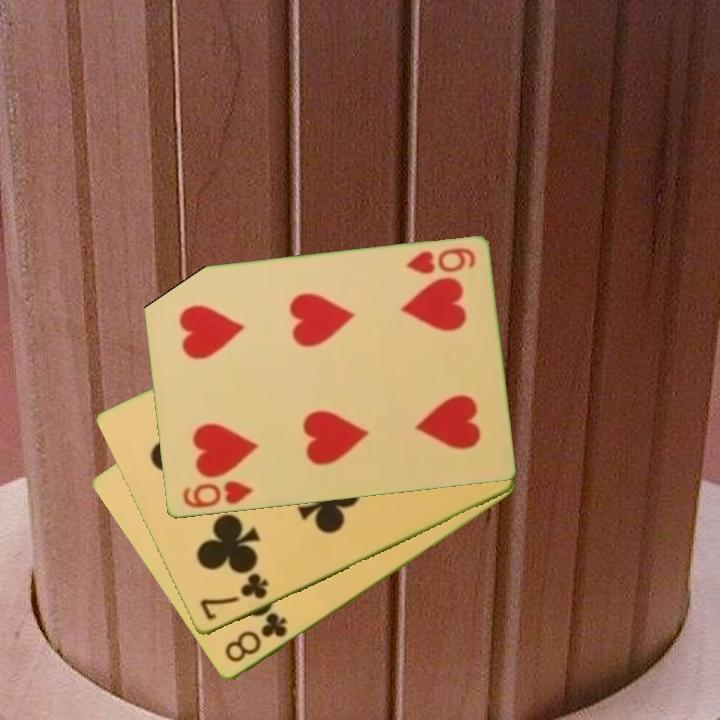6h: (178, 478, 256, 512), (402, 244, 478, 278)
7c: (196, 570, 271, 624)
8c: (220, 610, 291, 666)
